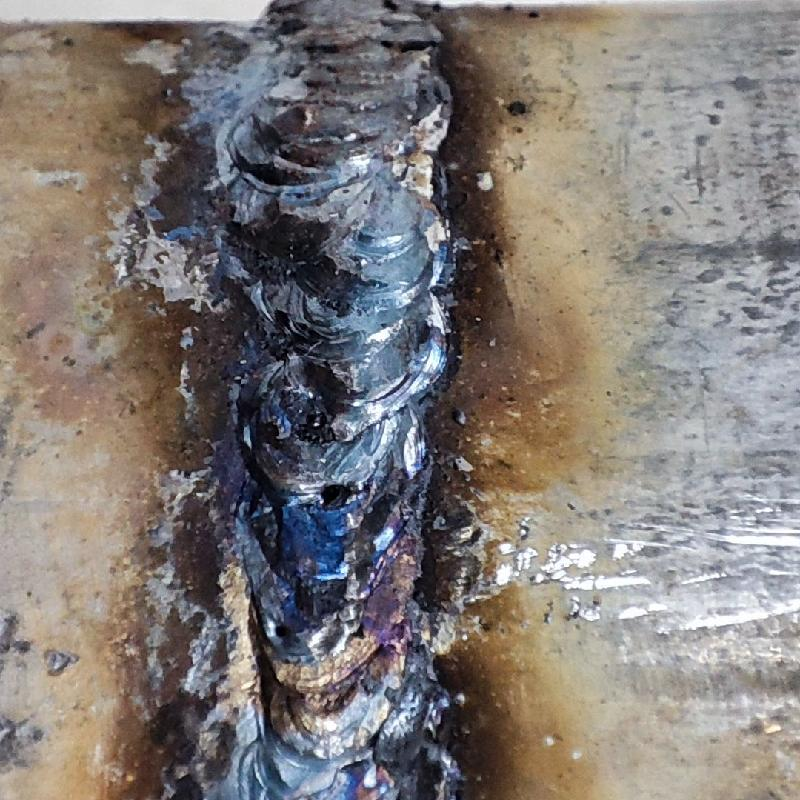Surface_pores: (258, 585, 319, 637), (313, 473, 353, 513)
